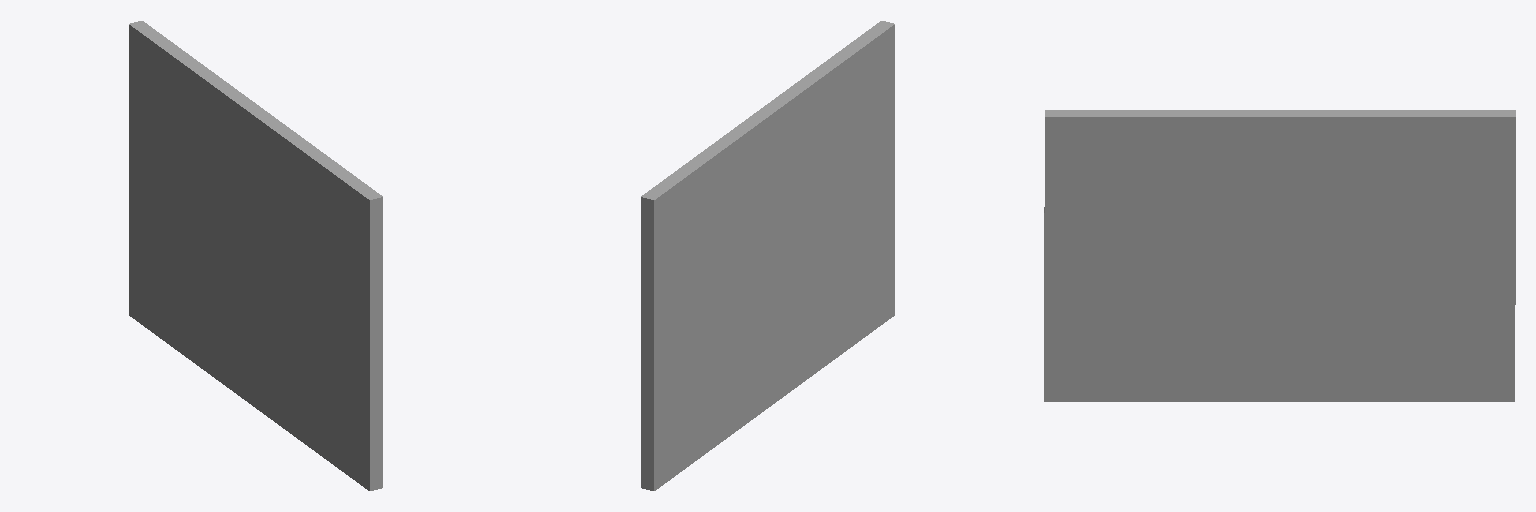
URDF robot description (floor_plan):
<?xml version="1.0"?>
<robot name="floor_plan">
    <material name="grey">
        <color rgba="0.7 0.7 0.7 1.0"/>
    </material>

    <link name="base">
        <visual>
            <origin rpy="1.5707 0 0" xyz="0 0 0.0"/>
            <geometry>
                <mesh scale="0.4 0.4 0.4" filename="package://floor_plan/door.obj"/>
            </geometry>
            <material name="grey"/>
        </visual>
        <collision concave="yes">
            <origin rpy="1.5707 0 0" xyz="0 0 -0.017"/>
            <geometry>
                <mesh scale="0.4 0.4 0.4" filename="package://floor_plan/door.obj"/>
            </geometry>
        </collision>
    </link>

</robot>

--- What the picture shows (computed from the rendered views, not written in the file) ---
3 views of the same robot in one strip: view 1: azimuth 30°, elevation 25°; view 2: azimuth 150°, elevation 25°; view 3: azimuth 270°, elevation 25° (orthographic).
Model floor_plan with 1 links and 0 joints (none), rooted at base, posed every joint at zero.
Links seen in each view (by area): view 1: base; view 2: base; view 3: base.
Link boxes in pixels (bbox=[...]): base: bbox=[129, 21, 382, 490]; base: bbox=[641, 21, 894, 490]; base: bbox=[1044, 110, 1515, 401].
Bounding box of the posed robot: 0.04 × 1.2 × 0.8001 m (x, y, z).
Meshes: 1 distinct files referenced, 1 mesh visuals loaded (1 OBJ).